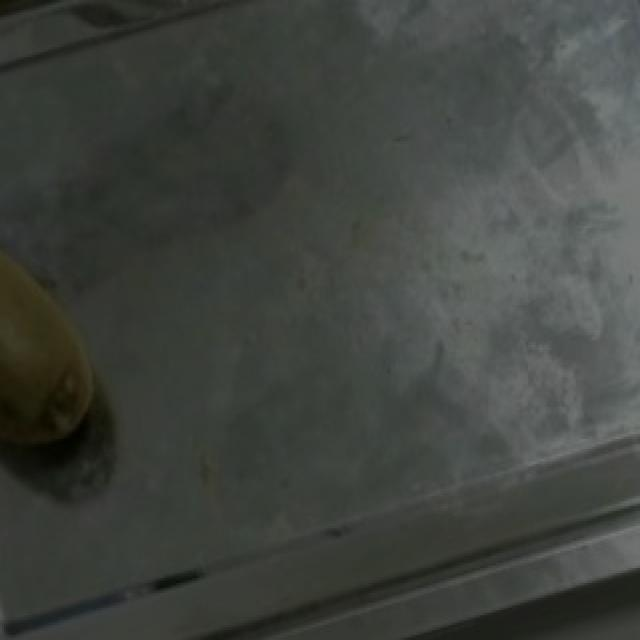Fruit: (0, 199, 130, 491)
